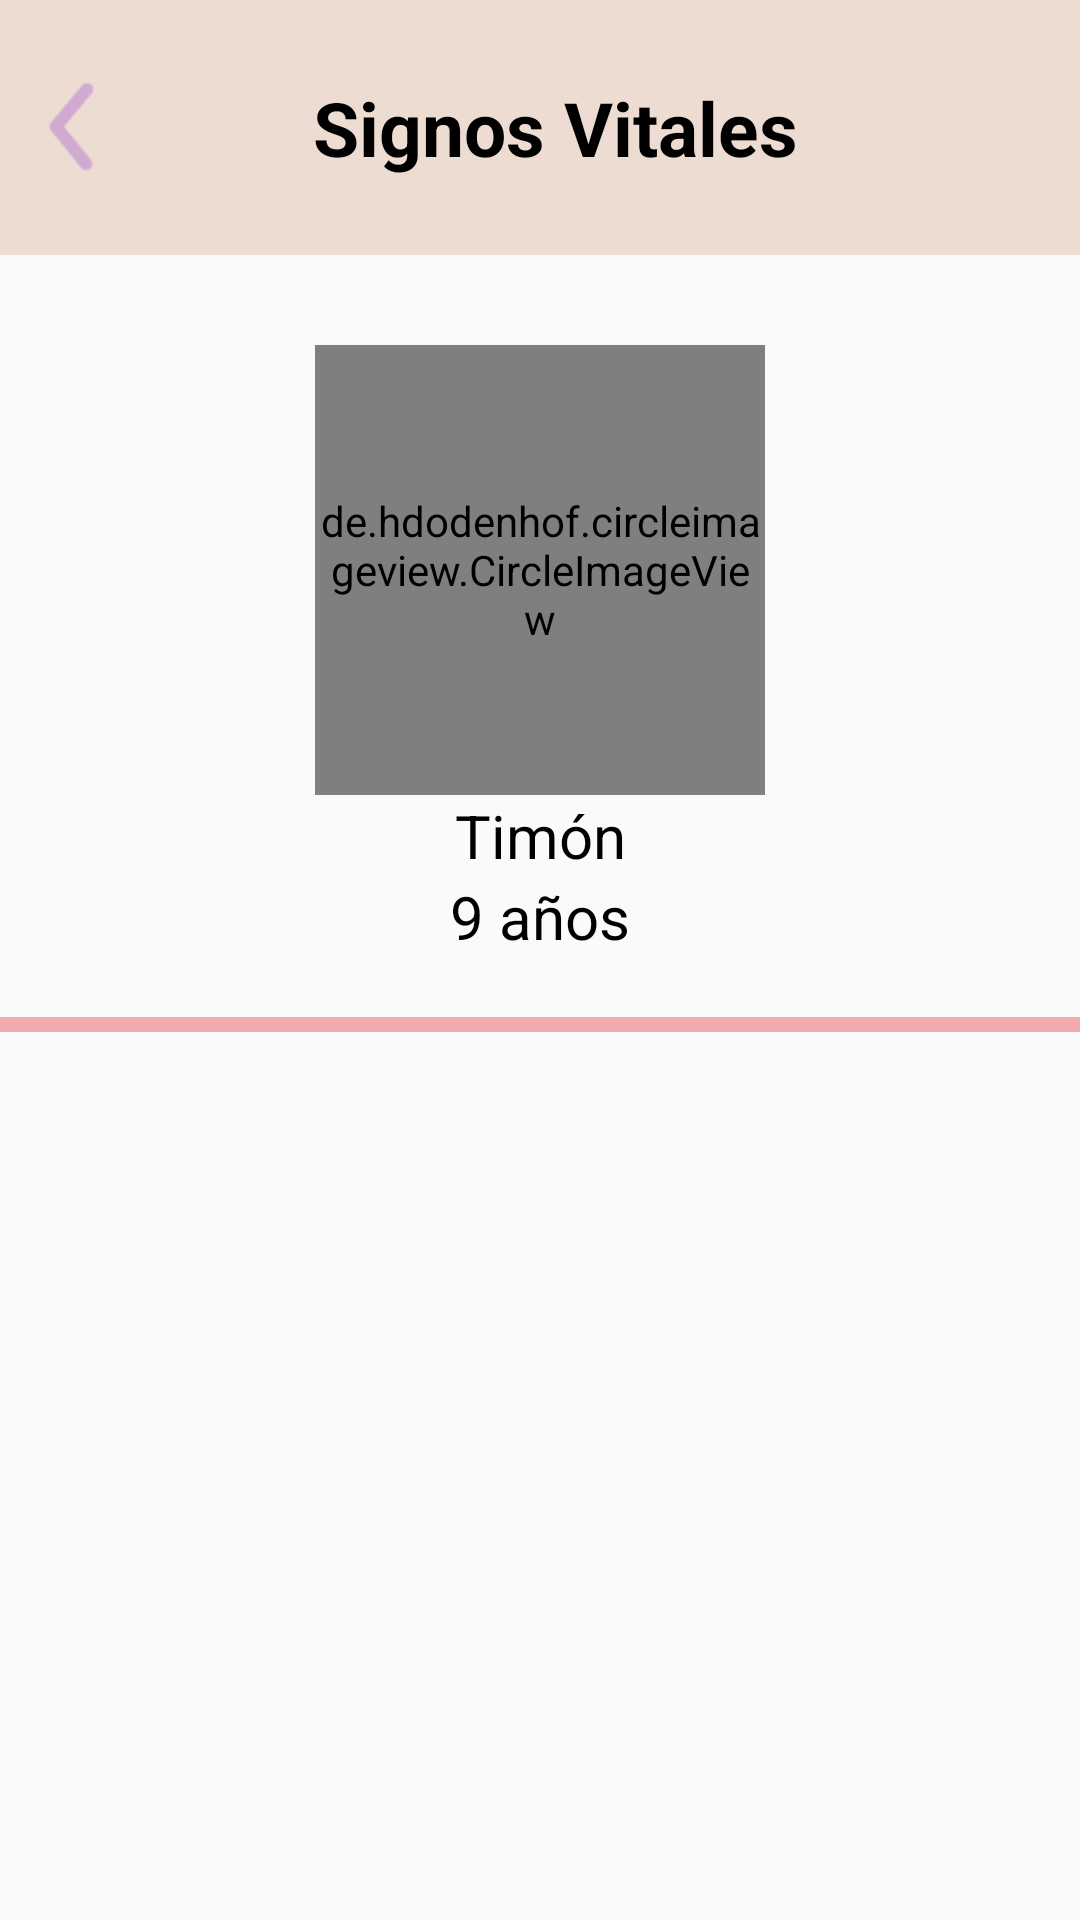

Named icons in this screenshot (1080px×1920px) and their centers, (x,y):
back: (71,126)
